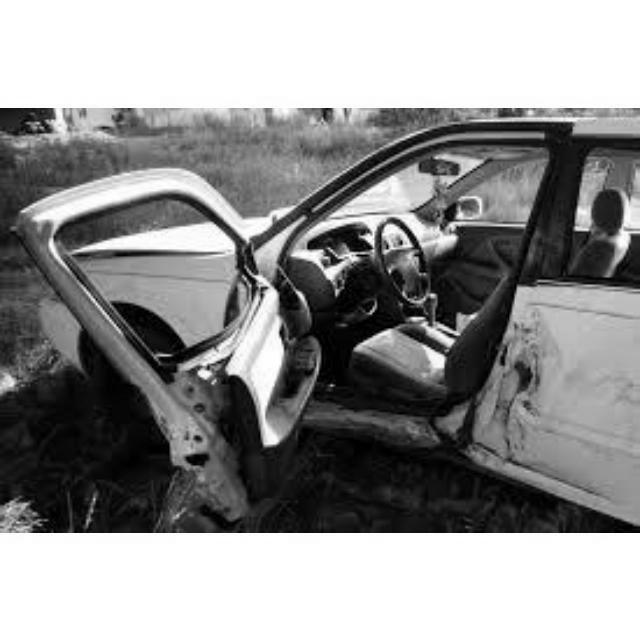Runningboard-Damage: (297, 393, 466, 451)
doorouter-dent: (497, 270, 638, 484)
